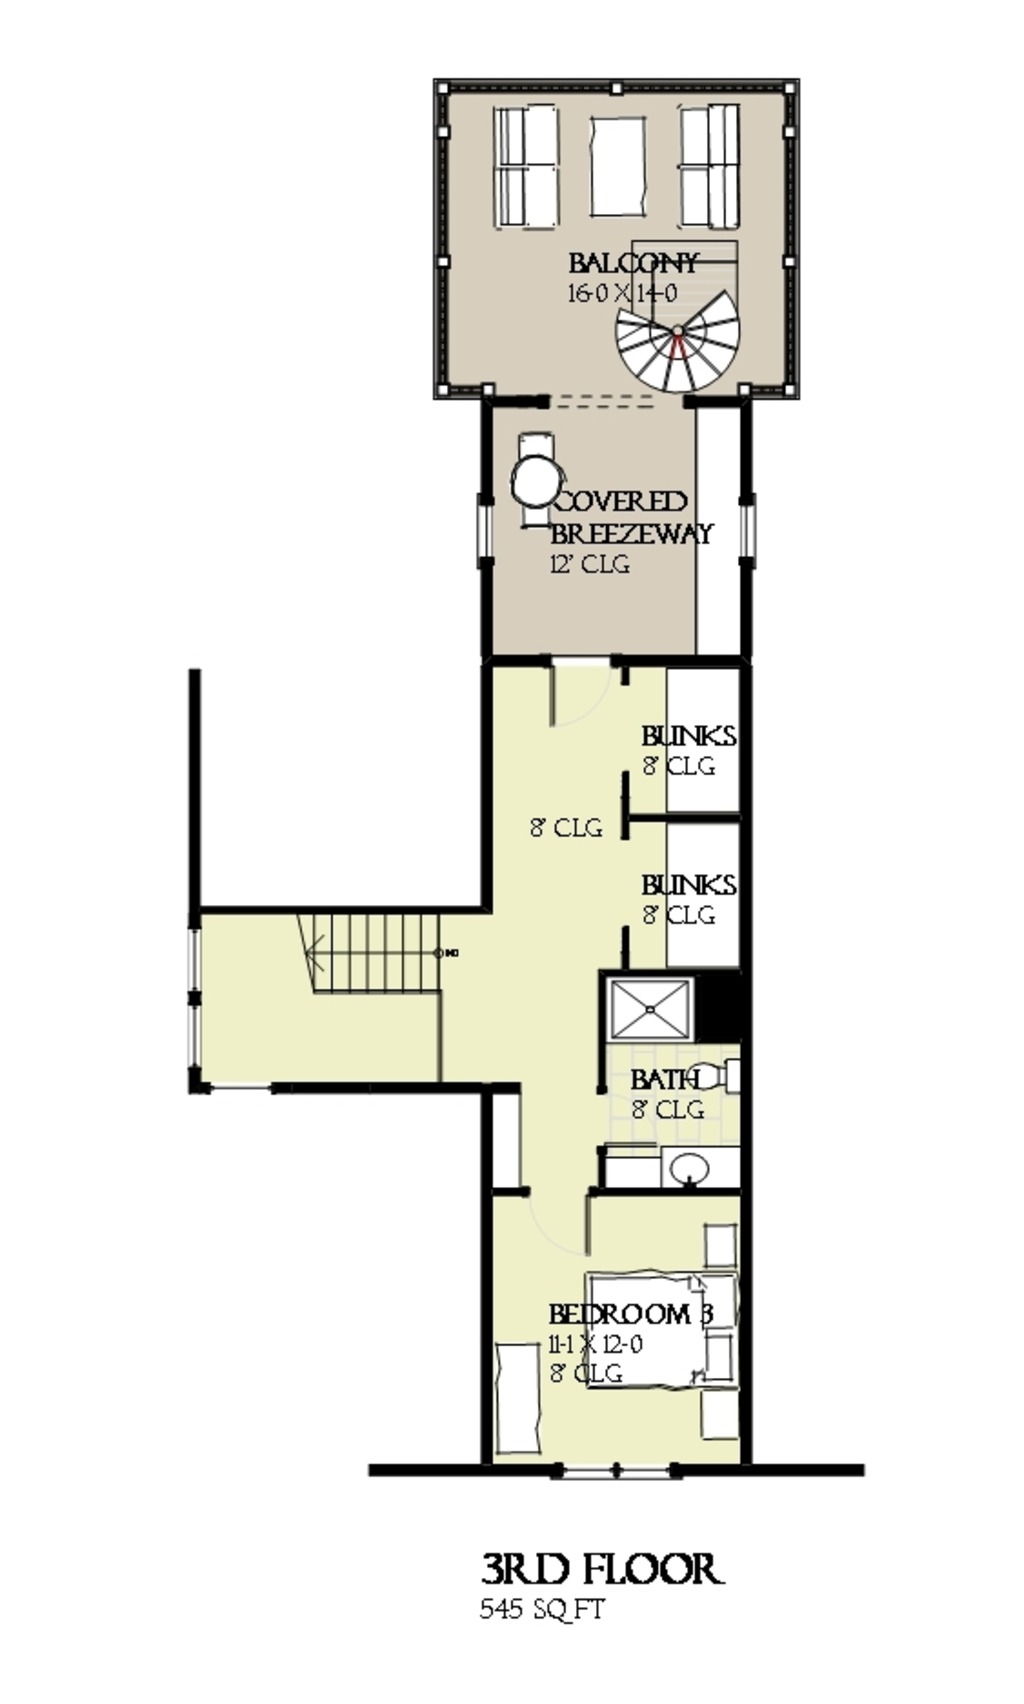bed: (570, 1266, 745, 1394)
small_sink: (658, 1145, 739, 1190)
stairs: (279, 903, 463, 997), (608, 288, 743, 389)
windows: (179, 925, 209, 1077), (565, 1463, 687, 1479), (476, 488, 498, 570), (739, 491, 759, 574)
